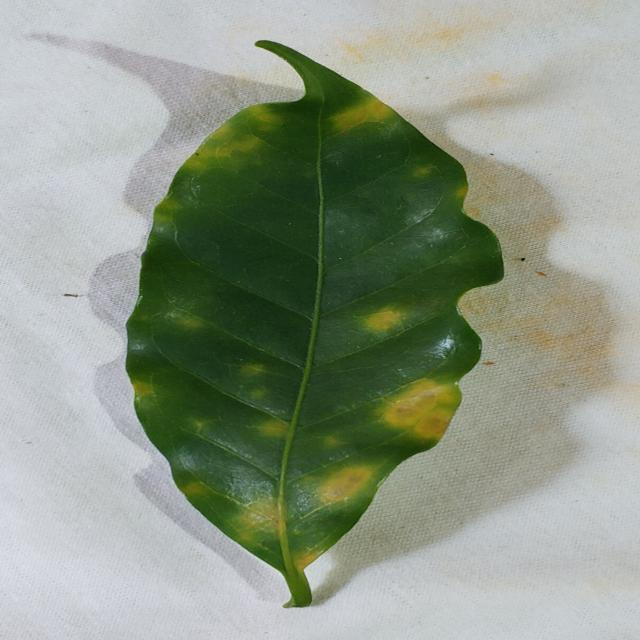Enfermedad-Roya: (125, 41, 506, 611)
